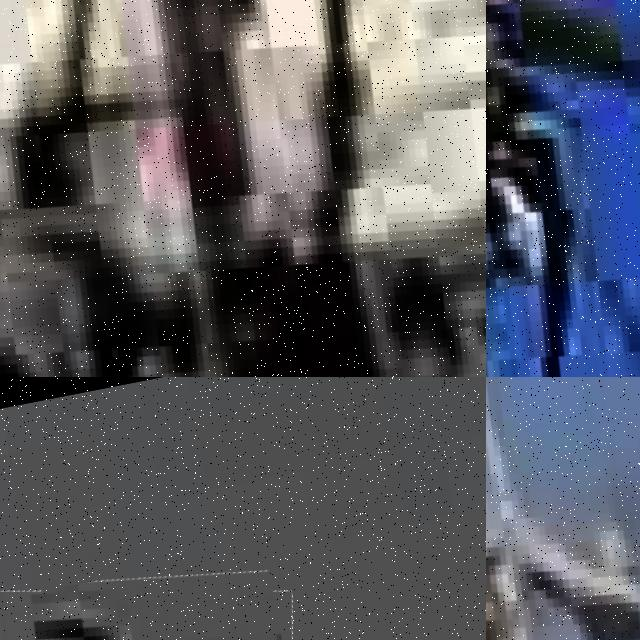0: (0, 0, 486, 377), (486, 0, 640, 377), (0, 548, 350, 640)
drone: (486, 377, 640, 640)
